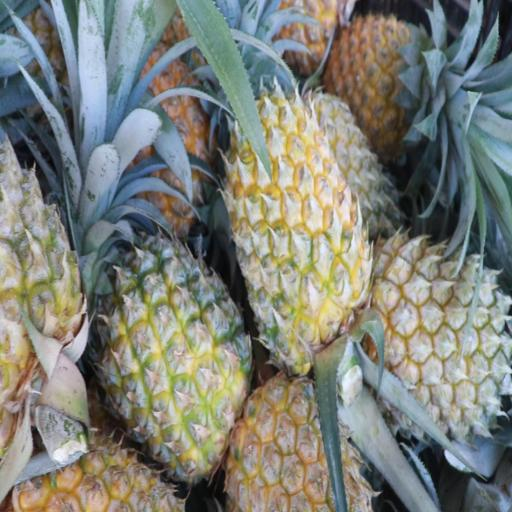------------------------------: (99, 235, 241, 462), (370, 233, 512, 424)
Pineapple - v8 v1: (226, 80, 364, 348), (230, 370, 368, 512), (329, 9, 447, 158)
